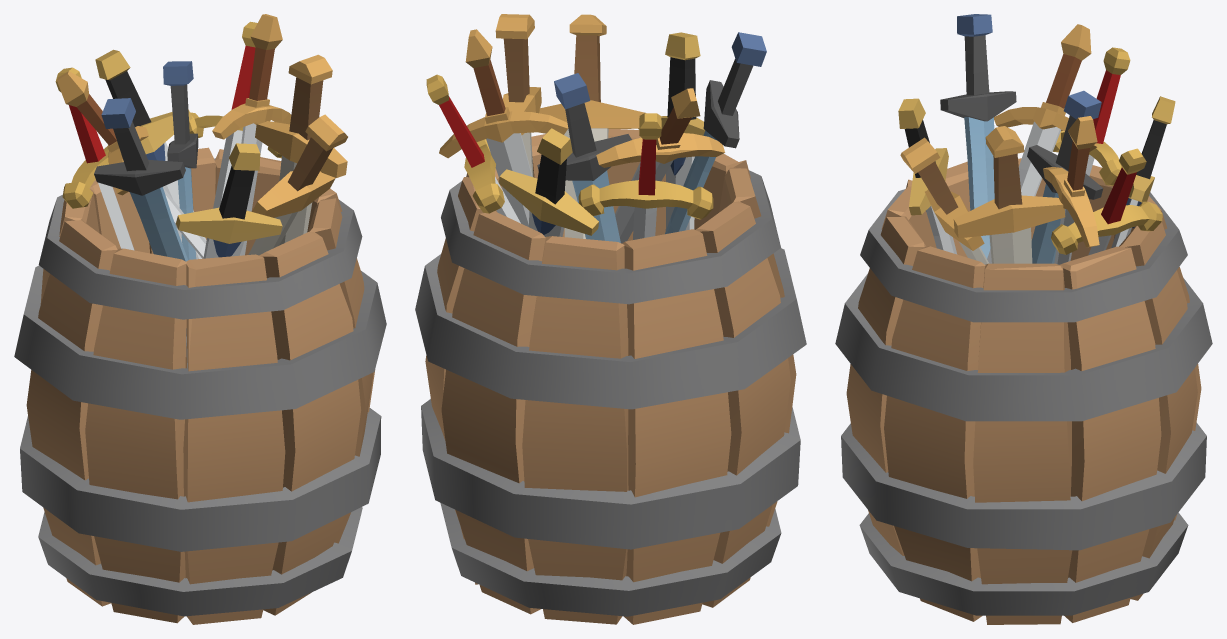
Rendered from Sword_I.fbx.
The picture shows the model from 3 angles, left to right: view 1: azimuth 30°, elevation 25°; view 2: azimuth 150°, elevation 25°; view 3: azimuth 270°, elevation 25°; orthographic projection. The views are drawn at different scales.
Visible parts, largest first — view 1: Sword_I; view 2: Sword_I; view 3: Sword_I.
Boxes of the visible parts, bbox=[...] form: Sword_I: bbox=[14, 14, 386, 624]; Sword_I: bbox=[415, 14, 806, 624]; Sword_I: bbox=[835, 14, 1212, 624].
Size of the model in its own units: 78.09 by 122 by 82.1.
